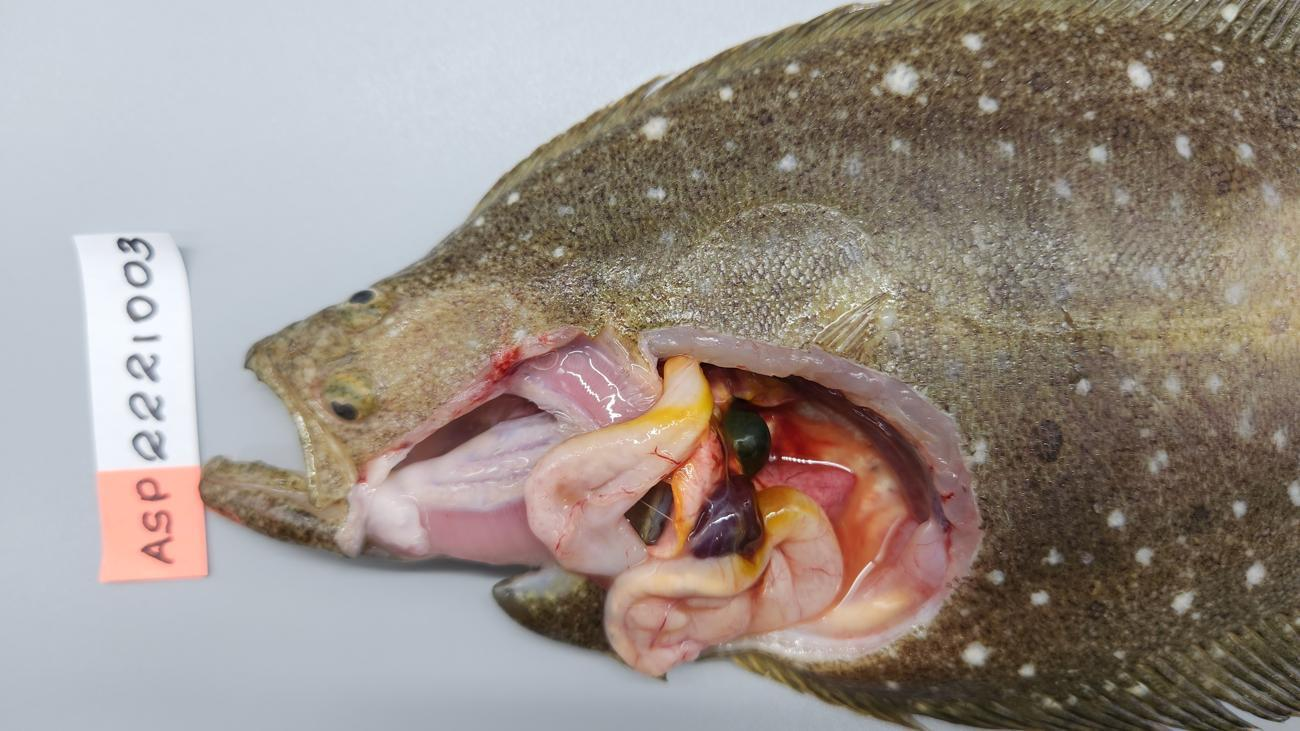SPSPE: (688, 474, 764, 559)
